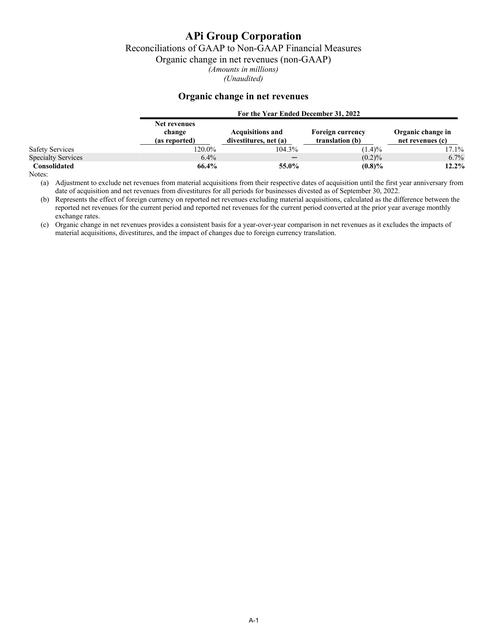box: (25, 110, 464, 172)
